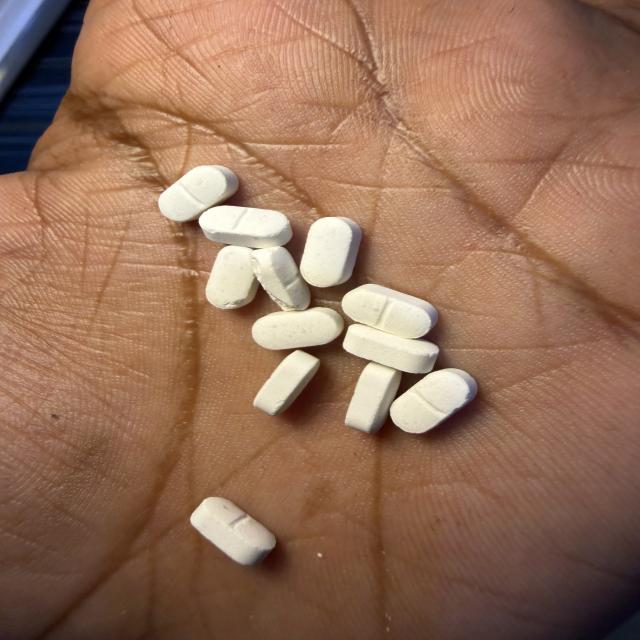pill: (191, 497, 275, 565), (391, 369, 477, 433), (342, 284, 438, 338), (343, 324, 438, 373), (159, 166, 238, 222), (300, 217, 361, 287), (254, 350, 319, 415), (345, 363, 401, 433), (199, 206, 292, 248), (252, 307, 343, 349), (252, 247, 310, 310), (206, 246, 258, 308)
